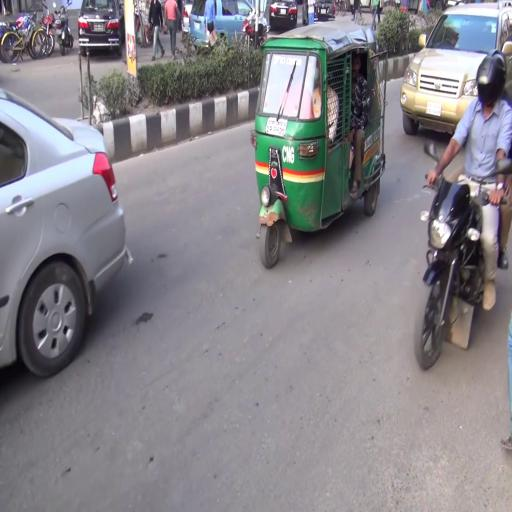bicycle: (3, 19, 51, 63)
car: (2, 83, 137, 384), (77, 1, 126, 61), (302, 1, 339, 27), (270, 2, 300, 30)
motorbike: (414, 144, 512, 382), (53, 2, 75, 58)
suv: (400, 5, 480, 135), (189, 1, 270, 57)
three wheelers (CNG): (248, 22, 389, 275)
